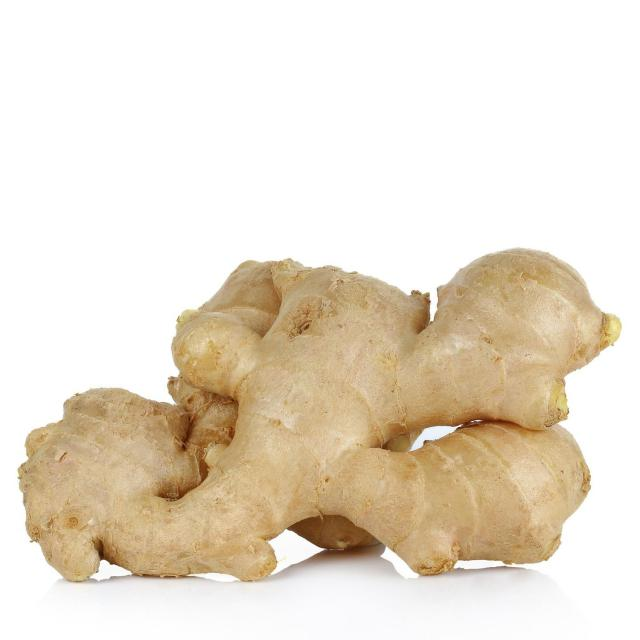ginger-root: (2, 241, 629, 597)
